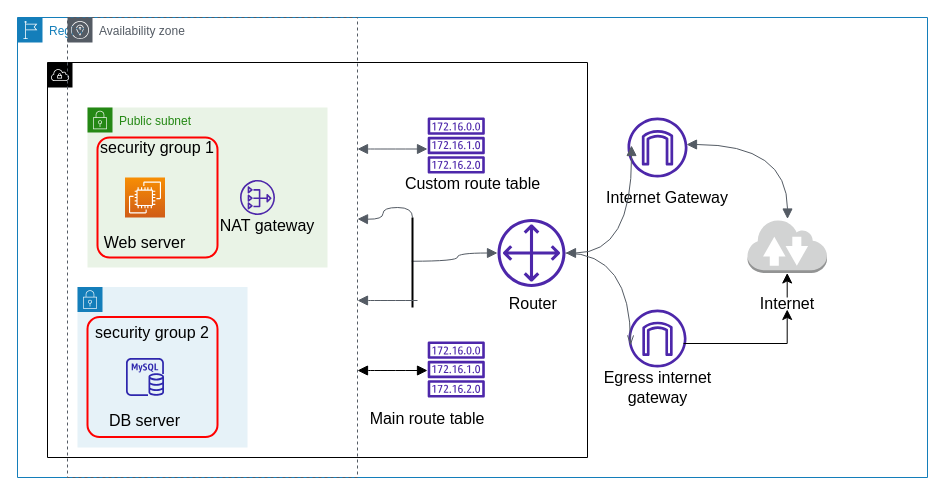
This 945x495 diagram has some shape labels left out. Each missing label, with the box of its shape:
Private subnet: (76, 286, 248, 448)
VPC: (46, 62, 588, 458)
